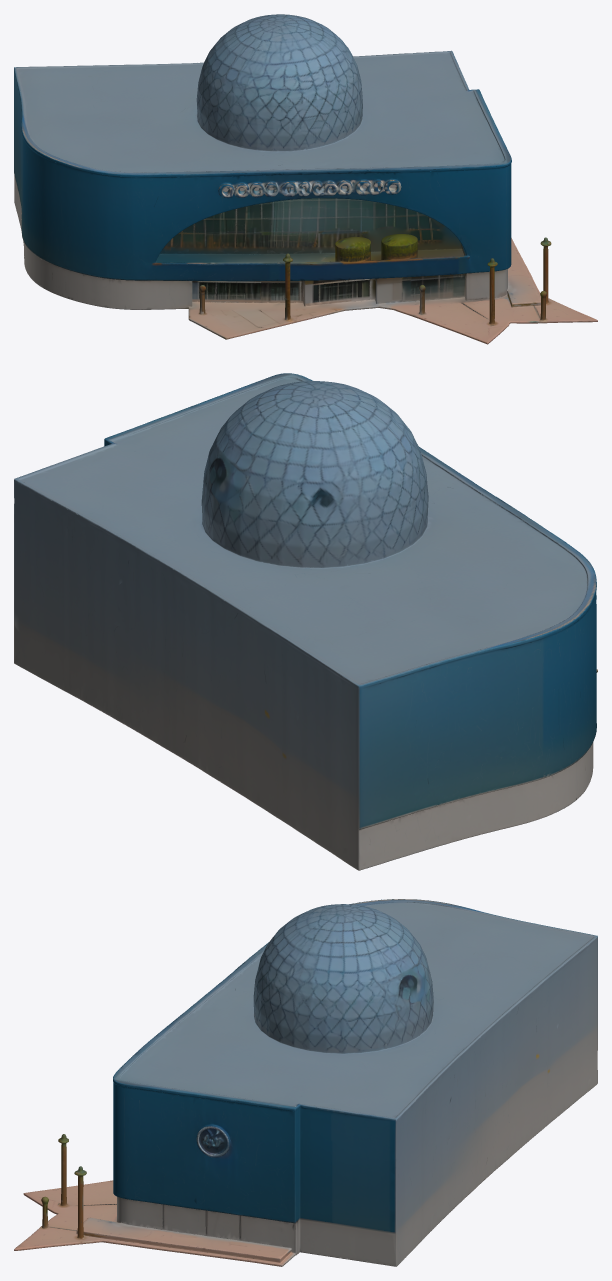
3 views of the same model, one above another, from view 1: azimuth 30°, elevation 25°; view 2: azimuth 150°, elevation 25°; view 3: azimuth 270°, elevation 25° (orthographic). The views are drawn at different scales.
Parts seen in each view (by area): view 1: texture_pbr_v128; view 2: texture_pbr_v128; view 3: texture_pbr_v128.
Part boxes in pixels (x1,y1,x2,y2): texture_pbr_v128: [14, 14, 597, 344]; texture_pbr_v128: [14, 373, 597, 870]; texture_pbr_v128: [14, 899, 597, 1266].
Size of the model in its own units: 0.8307 by 0.4387 by 0.9305.
1 material, 1 textured.
